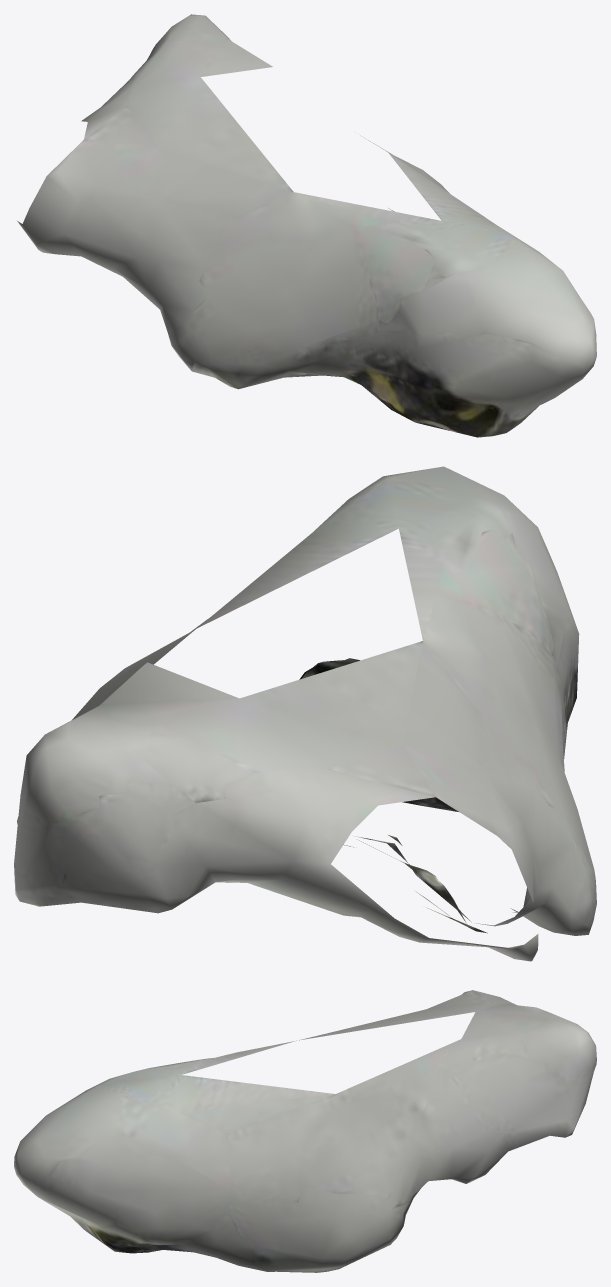
The model's file is hall.glb.
3 renders of one model, top to bottom at view 1: azimuth 30°, elevation 25°; view 2: azimuth 150°, elevation 25°; view 3: azimuth 270°, elevation 25°, orthographic. The views are drawn at different scales.
Size of the model in its own units: 0.0861 by 0.0517 by 0.1317.
Materials: 1 (1 with a texture image).
